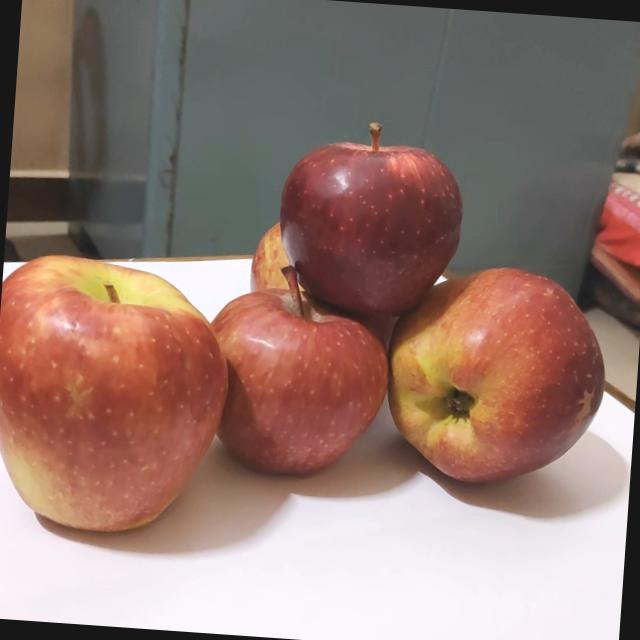apple: (0, 235, 236, 542), (382, 252, 622, 493), (199, 248, 398, 490), (270, 101, 475, 314), (251, 205, 312, 293)
